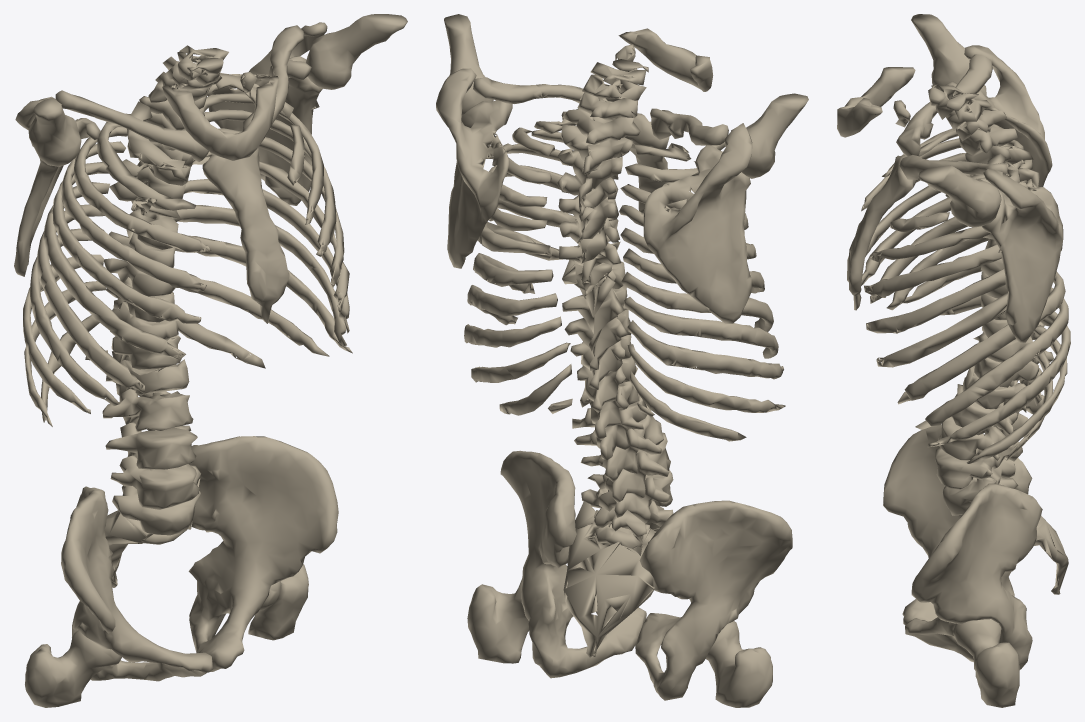
Rendered from tsd_s0196_older_adult_female.skeletal.LOD4.glb.
3 views of the same model, side by side, from view 1: azimuth 30°, elevation 25°; view 2: azimuth 150°, elevation 25°; view 3: azimuth 270°, elevation 25° (orthographic). The views are drawn at different scales.
Visible parts, largest first — view 1: TSD_S0196.OLDER_ADULT.FEMALE.SKELETAL.HIP_BONE_OS_COXAE.L, TSD_S0196.OLDER_ADULT.FEMALE.SKELETAL.HIP_BONE_OS_COXAE.R, TSD_S0196.OLDER_ADULT.FEMALE.SKELETAL.STERNUM, TSD_S0196.OLDER_ADULT.FEMALE.SKELETAL.SCAPULA.L, TSD_S0196.OLDER_ADULT.FEMALE.SKELETAL.FEMUR.R, TSD_S0196.OLDER_ADULT.FEMALE.SKELETAL.SKULL, TSD_S0196.OLDER_ADULT.FEMALE.SKELETAL.HUMERUS.L, TSD_S0196.OLDER_ADULT.FEMALE.SKELETAL.RIB_6.R, TSD_S0196.OLDER_ADULT.FEMALE.SKELETAL.RIB_5.R, TSD_S0196.OLDER_ADULT.FEMALE.SKELETAL.RIB_7.R, TSD_S0196.OLDER_ADULT.FEMALE.SKELETAL.RIB_4.R, TSD_S0196.OLDER_ADULT.FEMALE.SKELETAL.RIB_3.R (+36 smaller); view 2: TSD_S0196.OLDER_ADULT.FEMALE.SKELETAL.HIP_BONE_OS_COXAE.R, TSD_S0196.OLDER_ADULT.FEMALE.SKELETAL.SCAPULA.R, TSD_S0196.OLDER_ADULT.FEMALE.SKELETAL.HIP_BONE_OS_COXAE.L, TSD_S0196.OLDER_ADULT.FEMALE.SKELETAL.SCAPULA.L, TSD_S0196.OLDER_ADULT.FEMALE.SKELETAL.SACRUM, TSD_S0196.OLDER_ADULT.FEMALE.SKELETAL.FEMUR.L, TSD_S0196.OLDER_ADULT.FEMALE.SKELETAL.FEMUR.R, TSD_S0196.OLDER_ADULT.FEMALE.SKELETAL.RIB_8.R, TSD_S0196.OLDER_ADULT.FEMALE.SKELETAL.SKULL, TSD_S0196.OLDER_ADULT.FEMALE.SKELETAL.RIB_9.R, TSD_S0196.OLDER_ADULT.FEMALE.SKELETAL.HUMERUS.R, TSD_S0196.OLDER_ADULT.FEMALE.SKELETAL.RIB_10.R (+41 smaller); view 3: TSD_S0196.OLDER_ADULT.FEMALE.SKELETAL.HIP_BONE_OS_COXAE.L, TSD_S0196.OLDER_ADULT.FEMALE.SKELETAL.SCAPULA.L, TSD_S0196.OLDER_ADULT.FEMALE.SKELETAL.HIP_BONE_OS_COXAE.R, TSD_S0196.OLDER_ADULT.FEMALE.SKELETAL.SCAPULA.R, TSD_S0196.OLDER_ADULT.FEMALE.SKELETAL.FEMUR.L, TSD_S0196.OLDER_ADULT.FEMALE.SKELETAL.RIB_8.L, TSD_S0196.OLDER_ADULT.FEMALE.SKELETAL.HUMERUS.L, TSD_S0196.OLDER_ADULT.FEMALE.SKELETAL.RIB_7.L, TSD_S0196.OLDER_ADULT.FEMALE.SKELETAL.STERNUM, TSD_S0196.OLDER_ADULT.FEMALE.SKELETAL.SKULL, TSD_S0196.OLDER_ADULT.FEMALE.SKELETAL.RIB_9.L, TSD_S0196.OLDER_ADULT.FEMALE.SKELETAL.HUMERUS.R (+29 smaller).
Part boxes in pixels (x1,y1,x2,y2): TSD_S0196.OLDER_ADULT.FEMALE.SKELETAL.HIP_BONE_OS_COXAE.L: (188,436,338,671); TSD_S0196.OLDER_ADULT.FEMALE.SKELETAL.HIP_BONE_OS_COXAE.R: (61,486,213,681); TSD_S0196.OLDER_ADULT.FEMALE.SKELETAL.STERNUM: (202,148,289,323); TSD_S0196.OLDER_ADULT.FEMALE.SKELETAL.SCAPULA.L: (208,22,327,205); TSD_S0196.OLDER_ADULT.FEMALE.SKELETAL.FEMUR.R: (25,630,121,707); TSD_S0196.OLDER_ADULT.FEMALE.SKELETAL.SKULL: (162,72,278,160); TSD_S0196.OLDER_ADULT.FEMALE.SKELETAL.HUMERUS.L: (306,14,407,89); TSD_S0196.OLDER_ADULT.FEMALE.SKELETAL.RIB_6.R: (43,182,185,359); TSD_S0196.OLDER_ADULT.FEMALE.SKELETAL.RIB_5.R: (52,162,201,323); TSD_S0196.OLDER_ADULT.FEMALE.SKELETAL.RIB_7.R: (37,204,144,393); TSD_S0196.OLDER_ADULT.FEMALE.SKELETAL.RIB_4.R: (61,141,206,291); TSD_S0196.OLDER_ADULT.FEMALE.SKELETAL.RIB_3.R: (74,126,211,252); TSD_S0196.OLDER_ADULT.FEMALE.SKELETAL.HIP_BONE_OS_COXAE.R: (635,500,792,700); TSD_S0196.OLDER_ADULT.FEMALE.SKELETAL.SCAPULA.R: (643,123,752,323); TSD_S0196.OLDER_ADULT.FEMALE.SKELETAL.HIP_BONE_OS_COXAE.L: (500,450,646,678); TSD_S0196.OLDER_ADULT.FEMALE.SKELETAL.SCAPULA.L: (436,68,512,268); TSD_S0196.OLDER_ADULT.FEMALE.SKELETAL.SACRUM: (563,501,659,657); TSD_S0196.OLDER_ADULT.FEMALE.SKELETAL.FEMUR.L: (467,578,528,663); TSD_S0196.OLDER_ADULT.FEMALE.SKELETAL.FEMUR.R: (705,621,772,707); TSD_S0196.OLDER_ADULT.FEMALE.SKELETAL.RIB_8.R: (624,297,778,358); TSD_S0196.OLDER_ADULT.FEMALE.SKELETAL.SKULL: (615,28,713,91); TSD_S0196.OLDER_ADULT.FEMALE.SKELETAL.RIB_9.R: (627,320,783,379); TSD_S0196.OLDER_ADULT.FEMALE.SKELETAL.HUMERUS.R: (742,93,808,178); TSD_S0196.OLDER_ADULT.FEMALE.SKELETAL.RIB_10.R: (627,344,785,412); TSD_S0196.OLDER_ADULT.FEMALE.SKELETAL.HIP_BONE_OS_COXAE.L: (905,483,1042,669); TSD_S0196.OLDER_ADULT.FEMALE.SKELETAL.SCAPULA.L: (975,169,1063,343); TSD_S0196.OLDER_ADULT.FEMALE.SKELETAL.HIP_BONE_OS_COXAE.R: (883,424,1032,624); TSD_S0196.OLDER_ADULT.FEMALE.SKELETAL.SCAPULA.R: (945,45,1052,186); TSD_S0196.OLDER_ADULT.FEMALE.SKELETAL.FEMUR.L: (953,619,1019,707); TSD_S0196.OLDER_ADULT.FEMALE.SKELETAL.RIB_8.L: (915,287,1068,429); TSD_S0196.OLDER_ADULT.FEMALE.SKELETAL.HUMERUS.L: (918,165,1001,227); TSD_S0196.OLDER_ADULT.FEMALE.SKELETAL.RIB_7.L: (897,271,1065,404); TSD_S0196.OLDER_ADULT.FEMALE.SKELETAL.STERNUM: (847,154,916,310); TSD_S0196.OLDER_ADULT.FEMALE.SKELETAL.SKULL: (837,67,915,137); TSD_S0196.OLDER_ADULT.FEMALE.SKELETAL.RIB_9.L: (927,311,1070,447); TSD_S0196.OLDER_ADULT.FEMALE.SKELETAL.HUMERUS.R: (911,14,970,88).
Size of the model in its own units: 0.3492 by 0.5512 by 0.2076.
